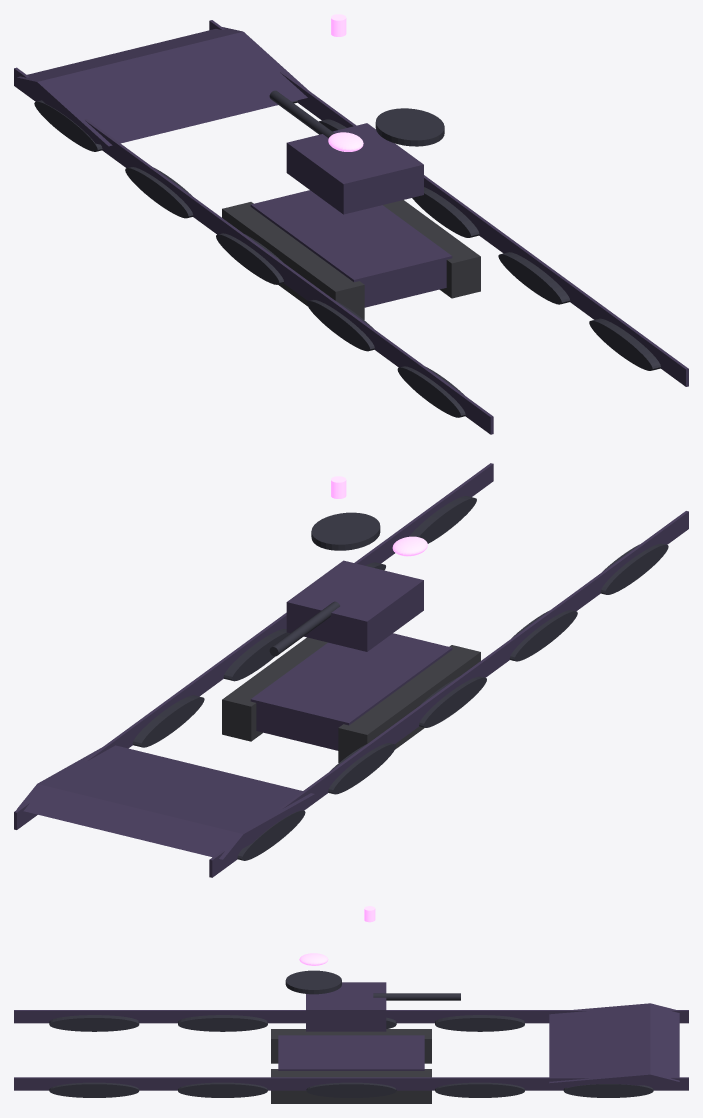
File: CH_PowerPlant_LOD1.glb
3 views of the same model, one above another, from view 1: azimuth 30°, elevation 25°; view 2: azimuth 150°, elevation 25°; view 3: azimuth 270°, elevation 25° (orthographic). The views are drawn at different scales.
Parts seen in each view (by area): view 1: Cube.001, Cube, Cube.006, Cube.003, Cube.005, Cube.002, Cube.004, Cylinder.010, Cylinder.006, Cylinder.005, Cylinder.007, Cylinder.003 (+5 smaller); view 2: Cube.001, Cube, Cube.006, Cube.003, Cube.005, Cube.002, Cube.004, Cylinder.010, Cylinder.008, Cylinder, Cylinder.003, Cylinder.001 (+5 smaller); view 3: Cube.001, Cube.005, Cube, Cube.003, Cube.006, Cube.004, Cube.002, Cylinder, Cylinder.001, Cylinder.003, Cylinder.005, Cylinder.007 (+5 smaller).
Part boxes in pixels (x1,y1,x2,y2): Cube.001: (17,27,307,146); Cube: (250,190,452,307); Cube.006: (286,123,423,214); Cube.003: (14,67,493,434); Cube.005: (209,20,688,386); Cube.002: (222,202,364,319); Cube.004: (383,200,480,298); Cylinder.010: (375,108,444,146); Cylinder.006: (498,252,570,304); Cylinder.005: (589,318,660,370); Cylinder.007: (412,187,479,237); Cylinder.003: (125,167,193,218); Cube.001: (16,745,314,859); Cube: (250,633,452,750); Cube.006: (286,560,423,651); Cube.003: (209,511,688,877); Cube.005: (14,463,493,829); Cube.002: (338,645,480,762); Cube.004: (222,637,327,741); Cylinder.010: (311,512,380,550); Cylinder.008: (132,695,204,747); Cylinder: (600,543,668,594); Cylinder.003: (328,743,396,794); Cylinder.001: (509,610,577,661); Cube.001: (549,1003,679,1087); Cube.005: (14,1077,688,1090); Cube: (278,1035,424,1070); Cube.003: (14,1010,688,1023); Cube.006: (306,982,386,1031); Cube.004: (271,1069,431,1103); Cube.002: (271,1029,431,1063); Cylinder: (49,1015,139,1031); Cylinder.001: (178,1015,267,1031); Cylinder.003: (435,1015,524,1031); Cylinder.005: (49,1082,139,1097); Cylinder.007: (306,1082,396,1097).
Size of what is drawn, in the model's own units: 4.65 by 5.15 by 18.48.
